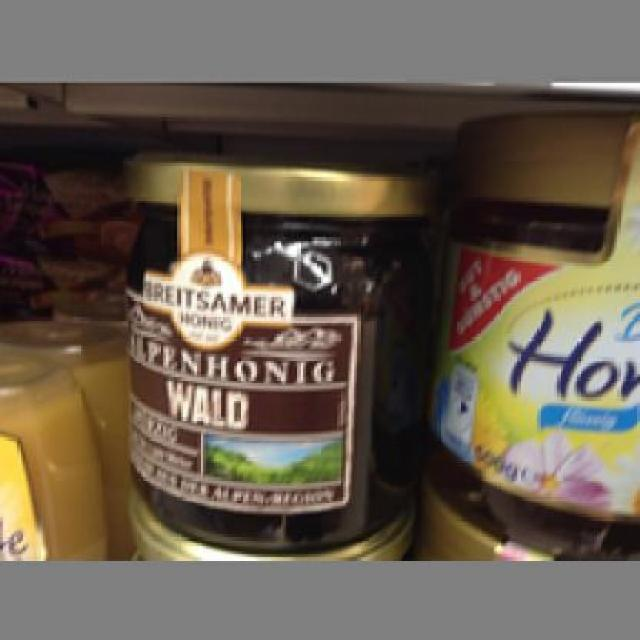Honey: (122, 157, 435, 546)
